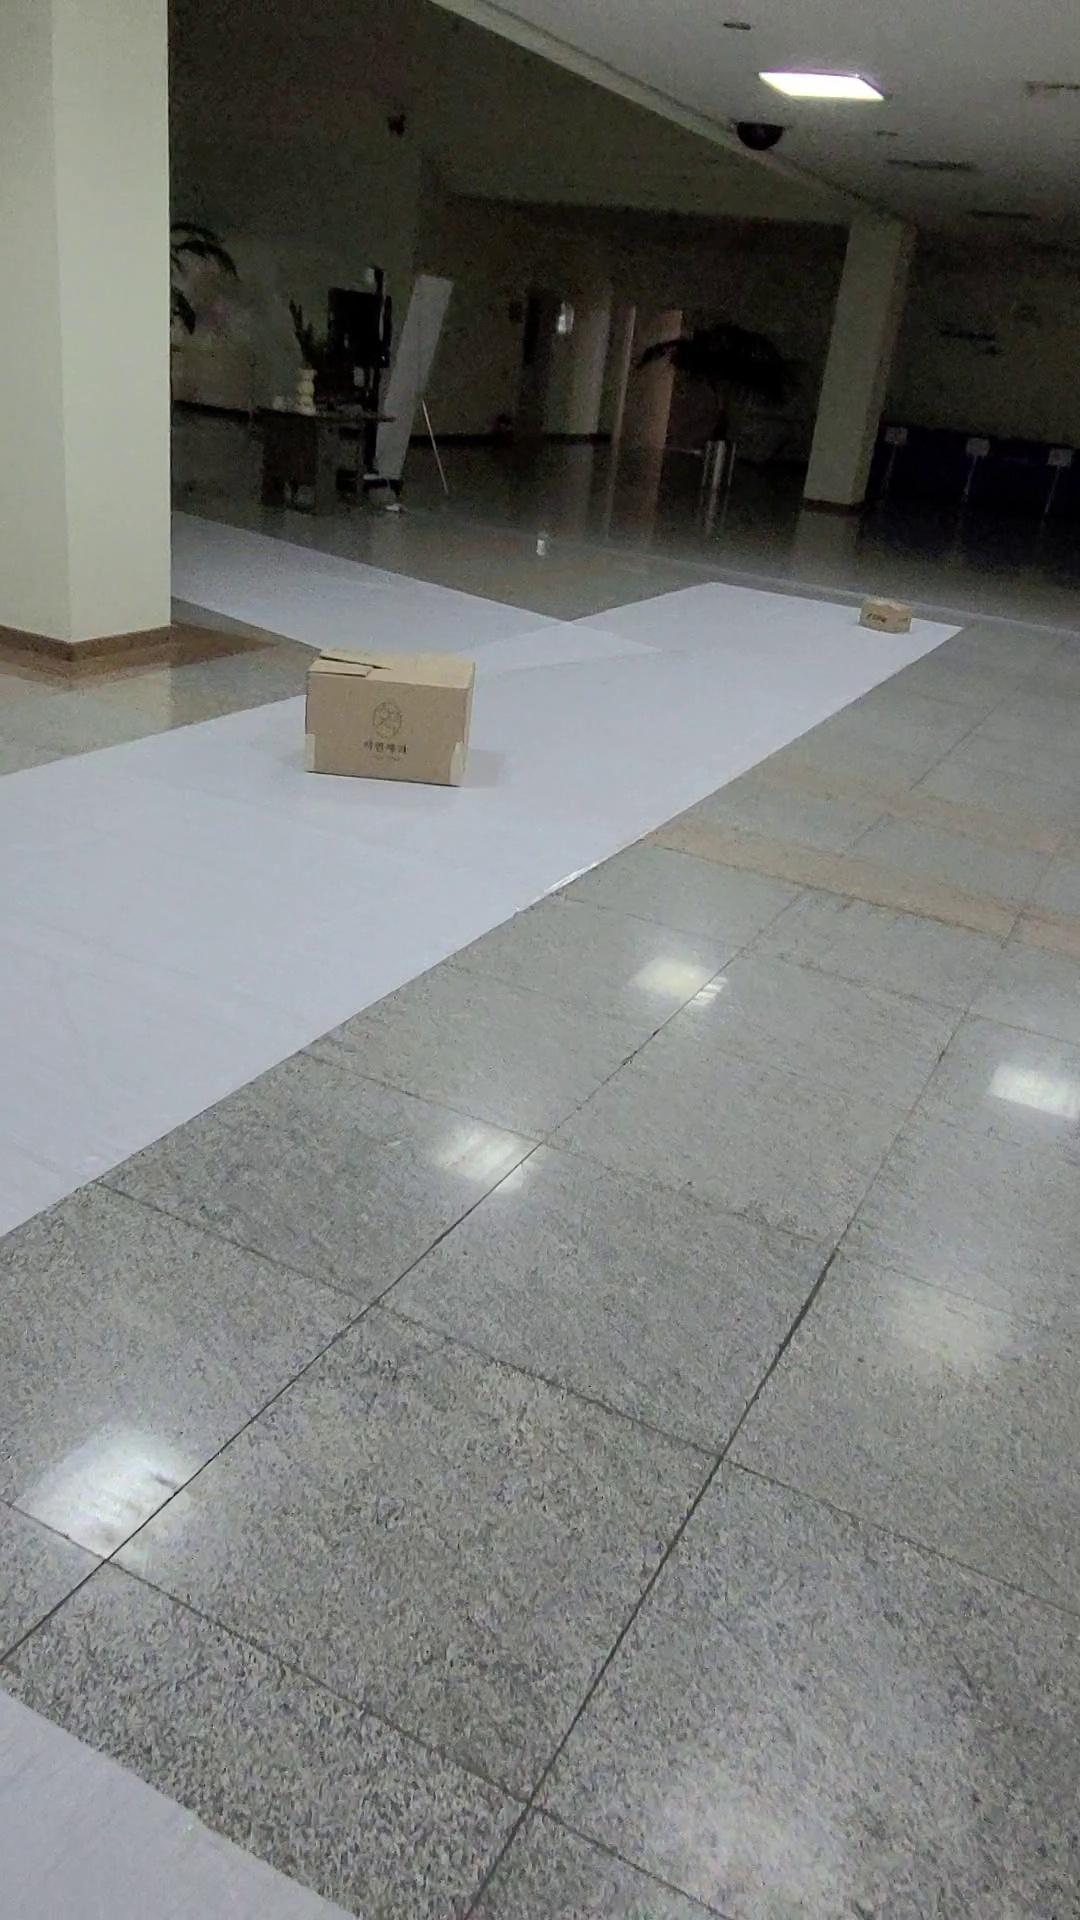Box: (256, 630, 530, 876), (831, 580, 965, 692)
